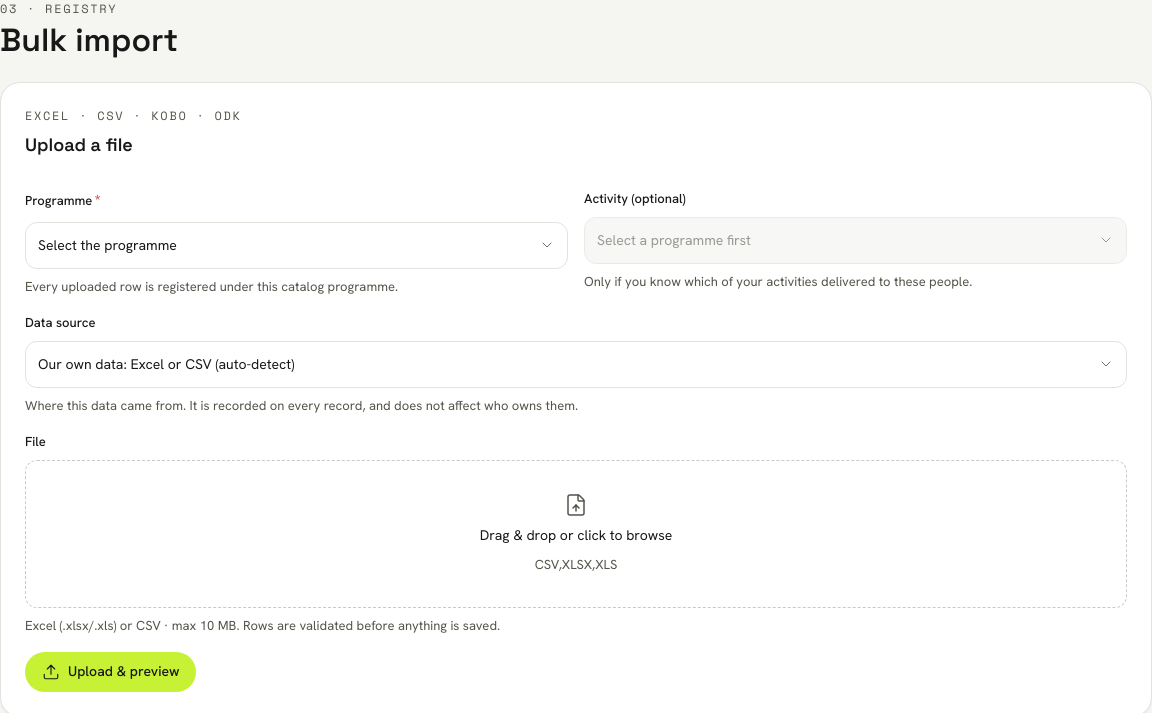
Test case: ImportListPage — the source-ingestion front door › refuses to upload without a programme, before touching the network
Click the button "Upload & preview". click: {"x": 111, "y": 672}
box: left=25, top=652, right=196, bottom=692
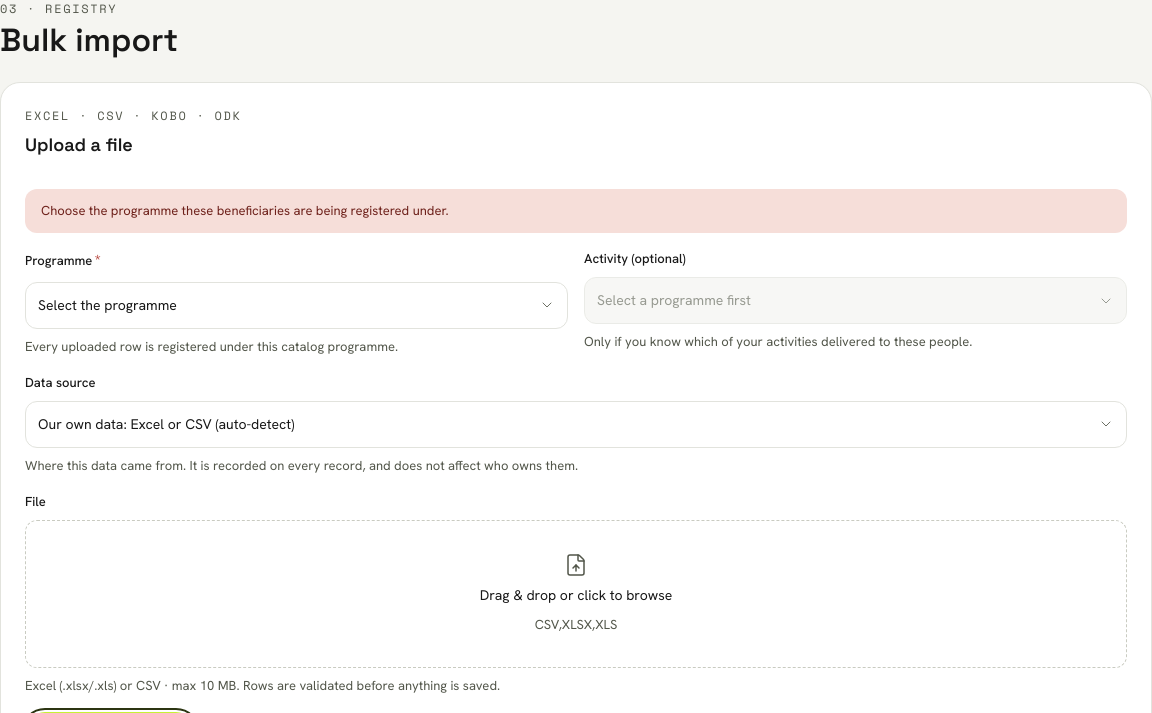
Now the message shows "Choose the programme", box left=41, top=202, right=449, bottom=219
